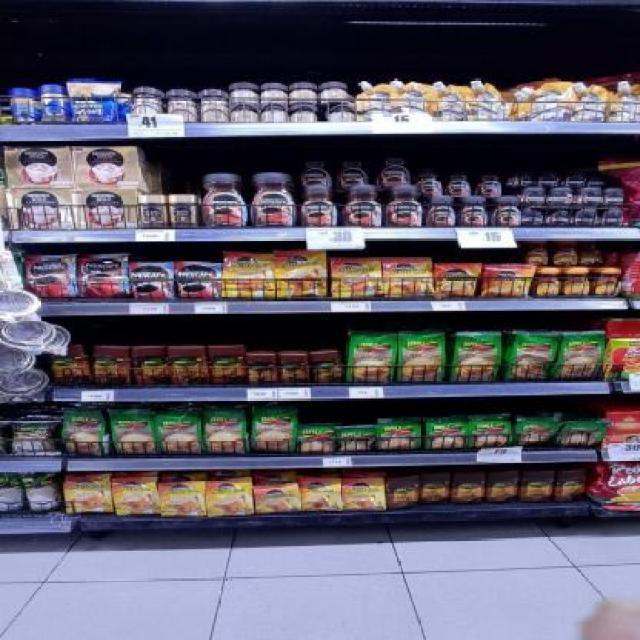Coffee: (250, 172, 296, 228), (202, 172, 246, 228), (223, 252, 276, 298), (276, 252, 328, 298), (79, 254, 130, 298), (26, 255, 74, 298), (383, 259, 432, 296), (333, 259, 379, 298), (176, 263, 222, 299), (481, 265, 531, 298), (65, 477, 110, 513), (342, 187, 382, 227), (129, 263, 174, 298), (207, 479, 252, 514), (160, 482, 206, 516), (115, 478, 158, 514), (385, 186, 422, 226), (300, 187, 337, 226), (300, 478, 342, 510), (343, 479, 386, 510), (437, 264, 476, 296), (375, 154, 412, 185), (254, 486, 298, 512), (337, 154, 370, 185), (301, 154, 331, 185), (427, 197, 456, 228), (460, 197, 489, 228), (139, 195, 166, 228), (493, 196, 518, 228), (172, 195, 196, 228), (565, 268, 590, 295), (596, 268, 619, 297), (536, 269, 559, 298), (447, 170, 472, 196), (526, 240, 549, 267), (553, 240, 576, 266), (582, 240, 605, 266), (420, 170, 443, 194), (480, 171, 503, 195), (575, 208, 600, 226), (601, 210, 625, 228), (549, 208, 572, 226), (548, 188, 571, 204), (523, 208, 542, 227), (509, 171, 533, 186), (521, 188, 544, 202), (579, 189, 602, 203), (607, 189, 628, 204), (540, 171, 559, 187), (566, 171, 585, 186), (590, 172, 608, 186)
